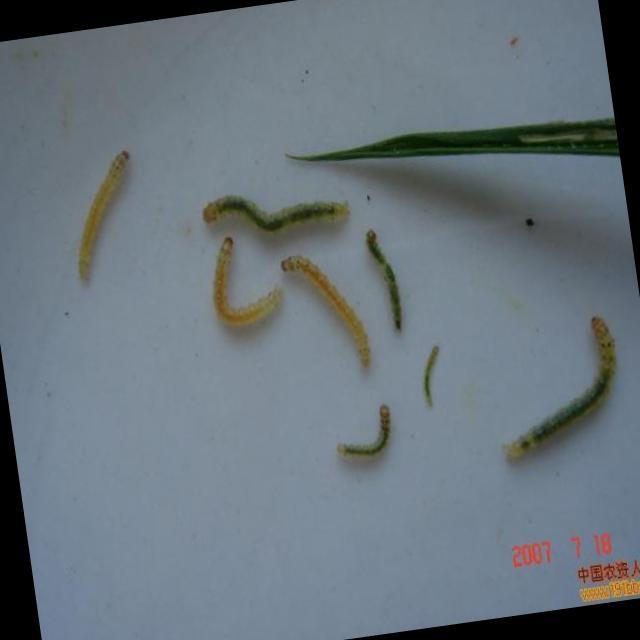leaf folder: (505, 316, 615, 459), (281, 256, 370, 367), (78, 151, 128, 280), (213, 238, 280, 327), (203, 196, 348, 232), (366, 230, 402, 331), (337, 404, 390, 457), (423, 346, 438, 407)
